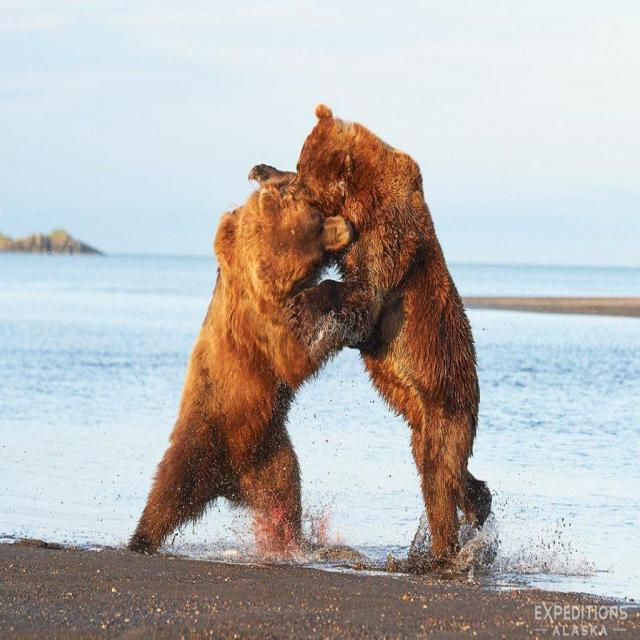Bear: (294, 106, 491, 557), (135, 174, 355, 553)
